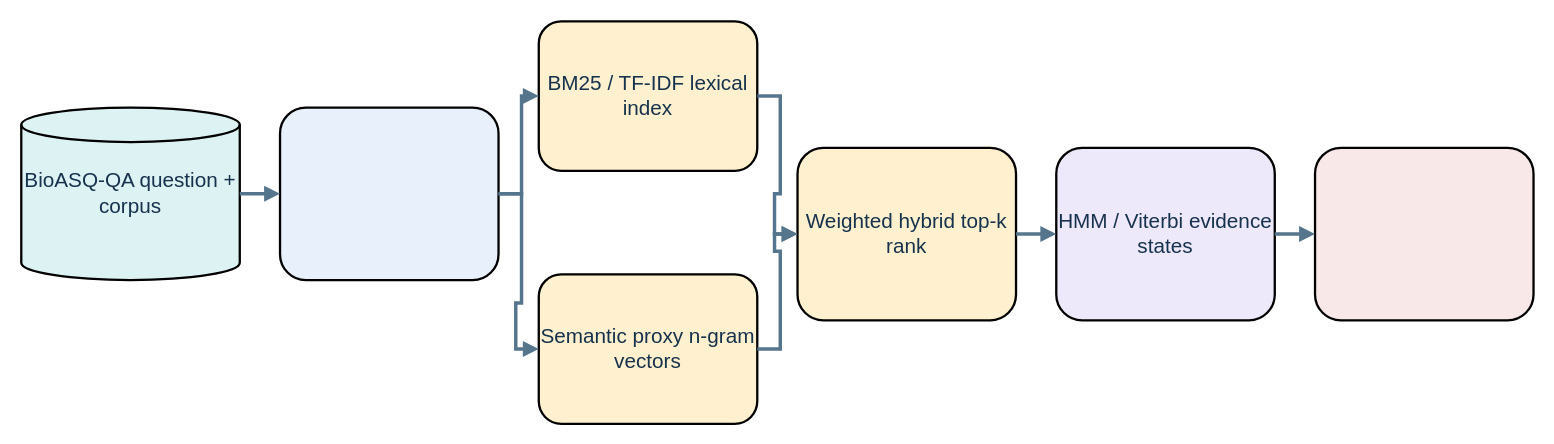
Image size: 1554x444. Some labels were removed from this diagram. Here are the shapes that lost their labels. From the top down, the centre of each, then its label:
the point at 388,193: Inspect, clean & split by ID
the point at 1423,233: Supported answer + metrics
